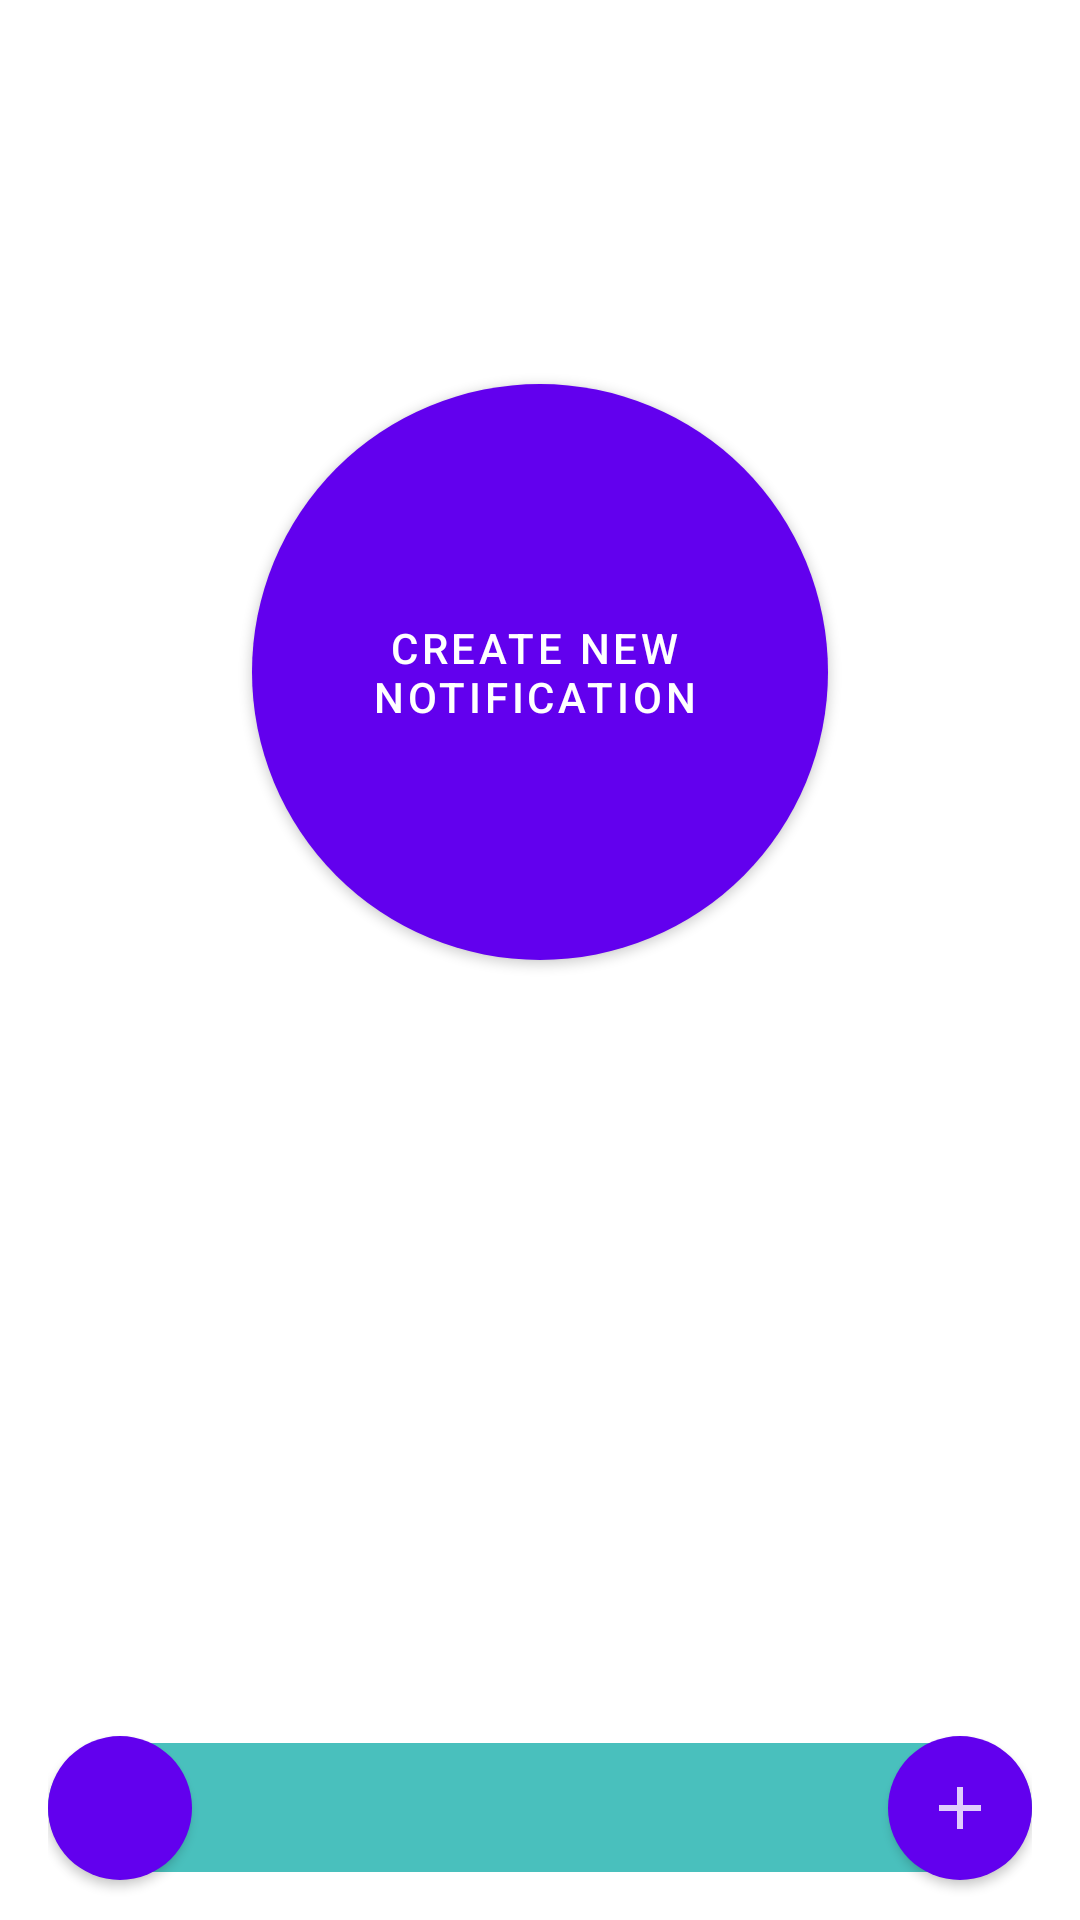

Icons on this 1080 × 1920 Android screen, each with the point to tap as [x,y]:
add: [960,1808]
